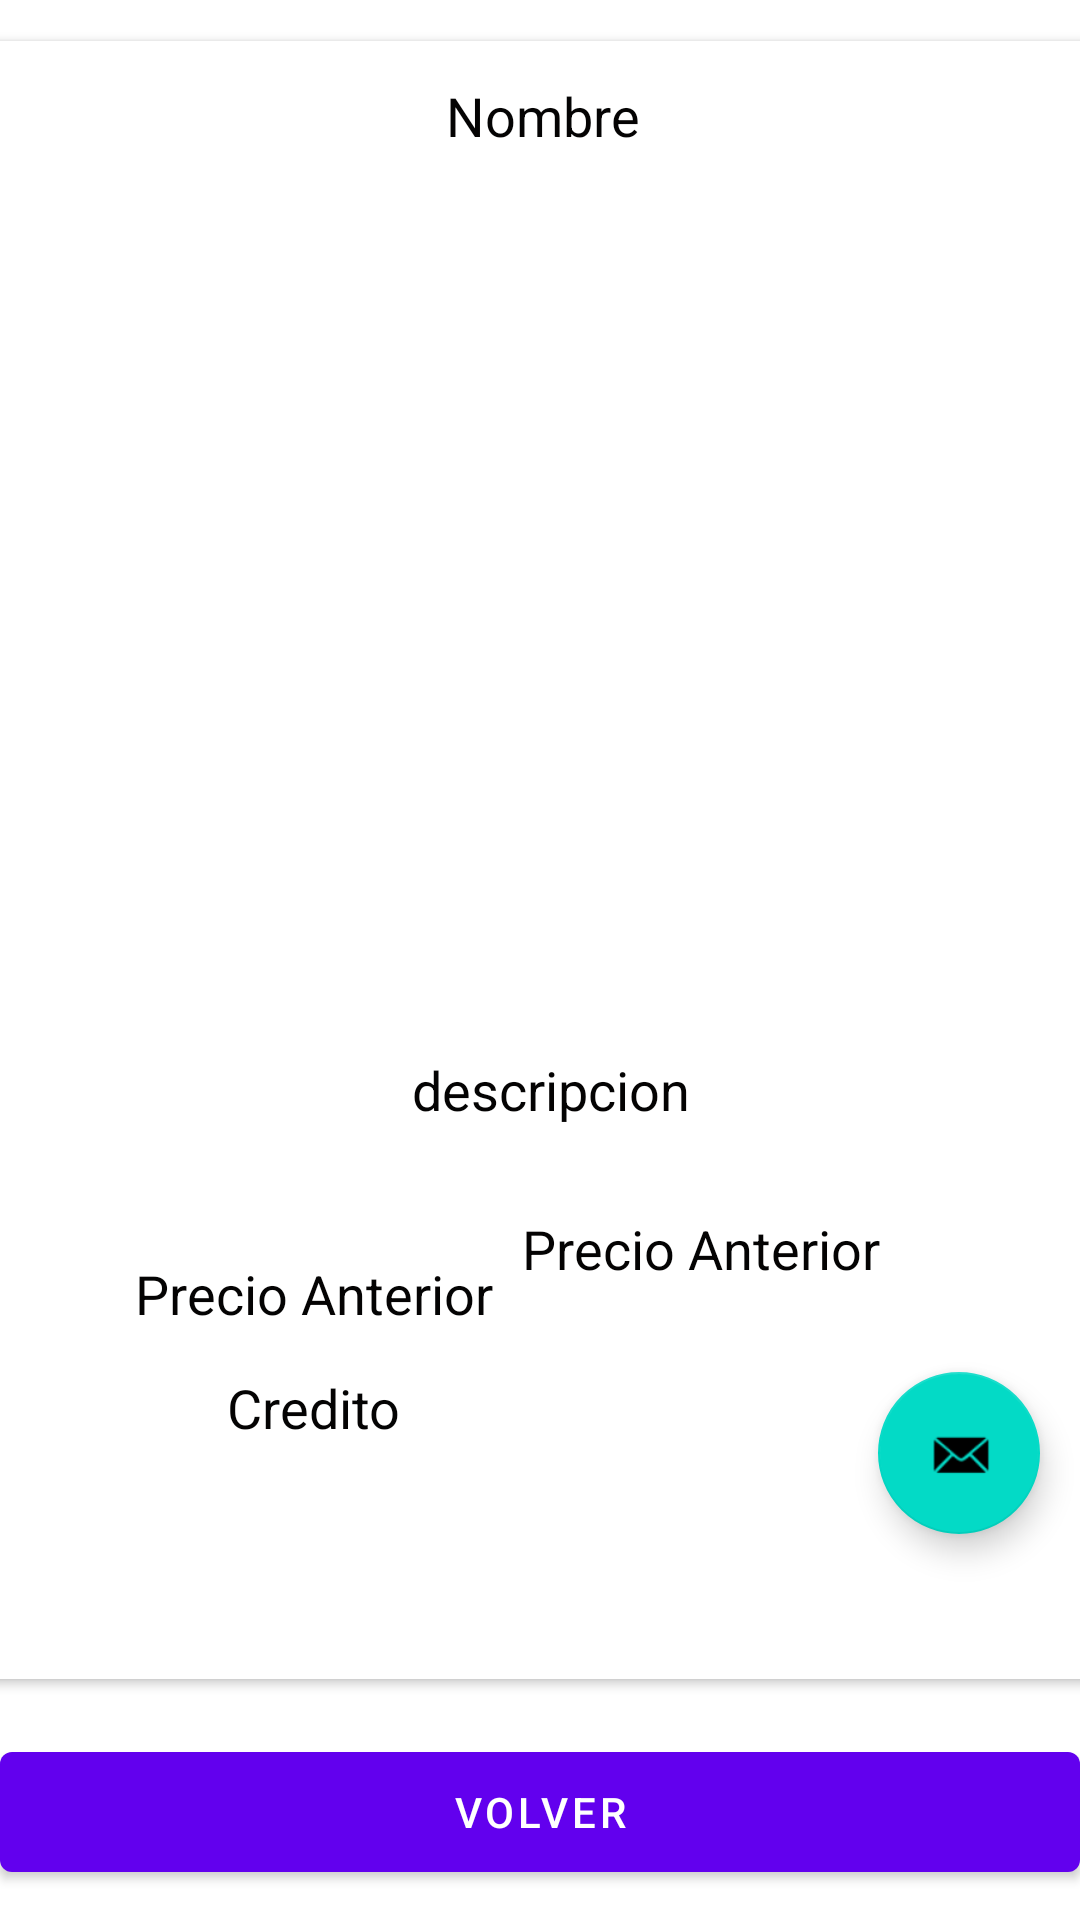

Screen size 1080 x 1920. Icon name, then its box in pixels as (x1, y1, x2, y2):
sym action email: (878, 1372, 1040, 1534)
